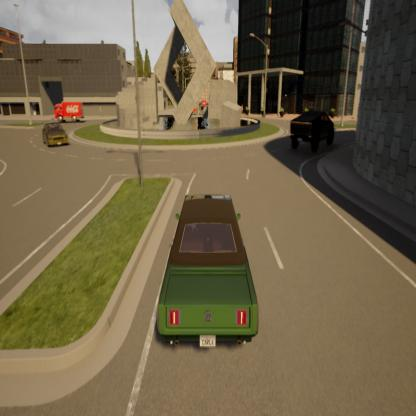Cars: (149, 180, 264, 361), (288, 105, 339, 157), (41, 119, 71, 148), (51, 98, 85, 123)
Pedestrian: (98, 102, 102, 116)
